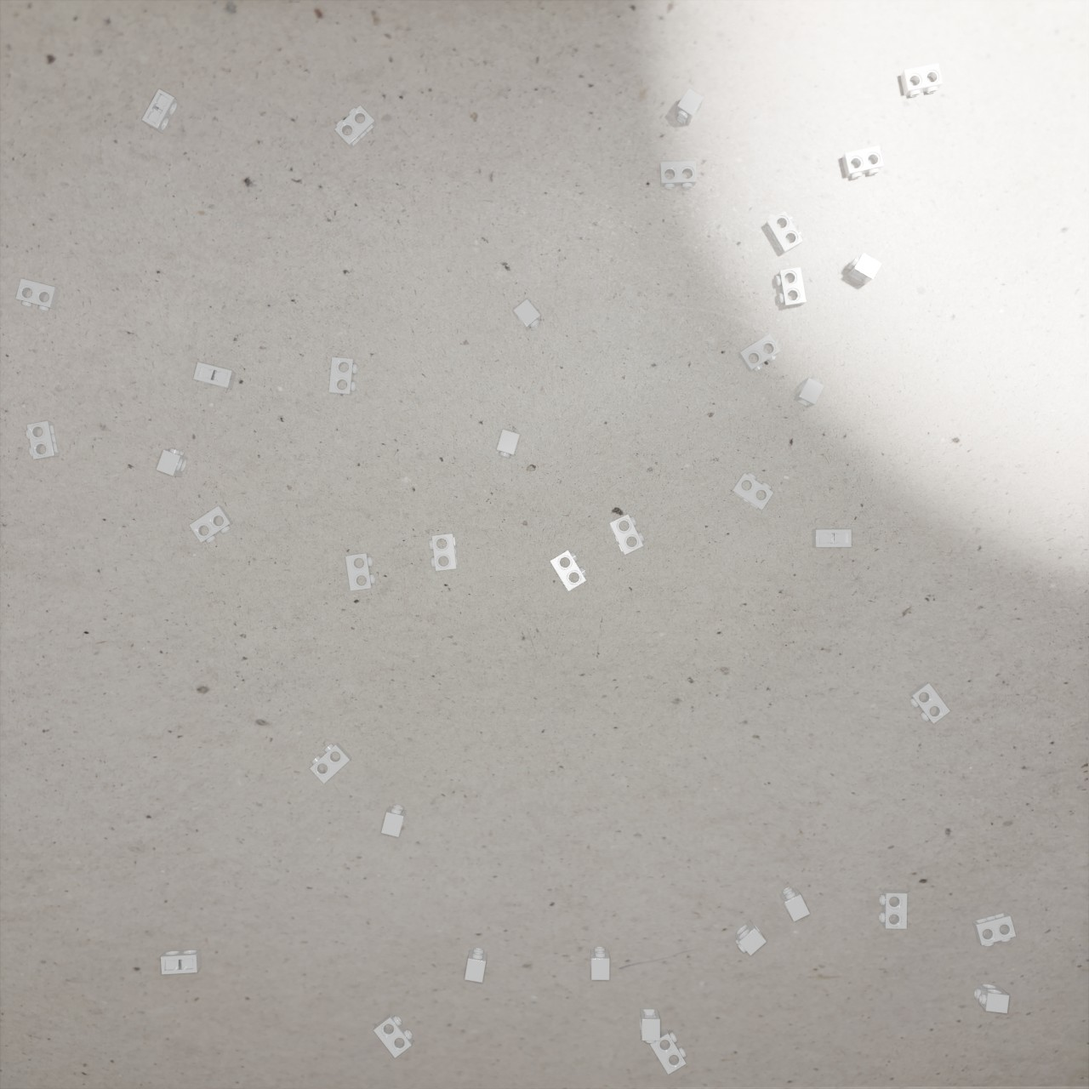lego: (334, 105, 377, 149), (908, 681, 951, 724), (373, 1012, 413, 1058), (649, 1028, 687, 1075), (310, 742, 352, 784), (189, 506, 234, 544), (765, 210, 803, 255), (731, 472, 774, 511), (738, 333, 781, 372), (142, 89, 179, 134), (972, 912, 1016, 947), (16, 278, 61, 312), (550, 550, 587, 591), (608, 514, 645, 555), (900, 63, 943, 97), (842, 145, 884, 179), (26, 421, 60, 460), (775, 267, 807, 308), (734, 919, 767, 956), (193, 362, 236, 390), (345, 553, 376, 591), (659, 160, 697, 190), (329, 357, 358, 396), (879, 889, 907, 929), (847, 253, 882, 285), (674, 88, 704, 125), (779, 887, 810, 922), (429, 534, 458, 571), (161, 949, 202, 975), (974, 983, 1009, 1013), (793, 377, 825, 408), (156, 448, 189, 477), (513, 299, 541, 332), (381, 805, 407, 837), (465, 948, 487, 983), (812, 529, 852, 547), (640, 1008, 660, 1043), (497, 429, 520, 459), (590, 946, 609, 980)
